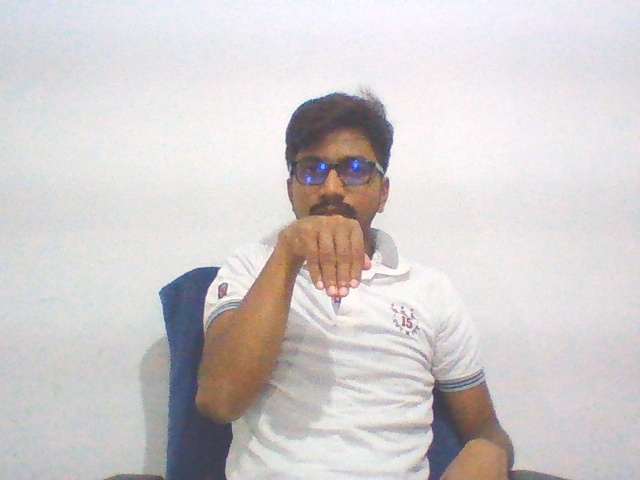Squirrel: (273, 206, 379, 305)
